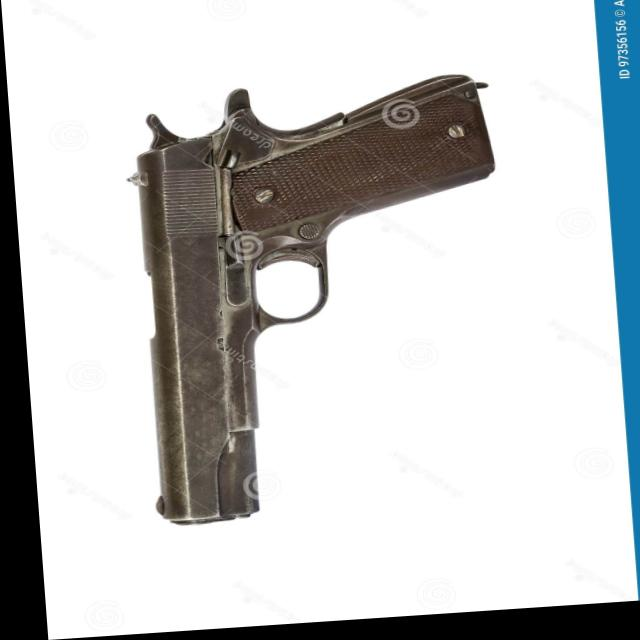handgun: (116, 71, 518, 537)
